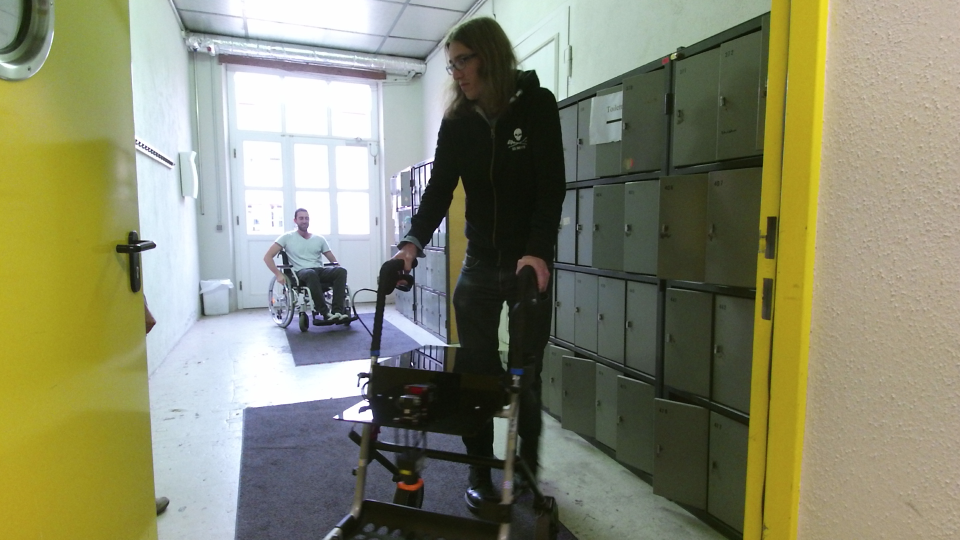wheelchair: (256, 200, 357, 334)
